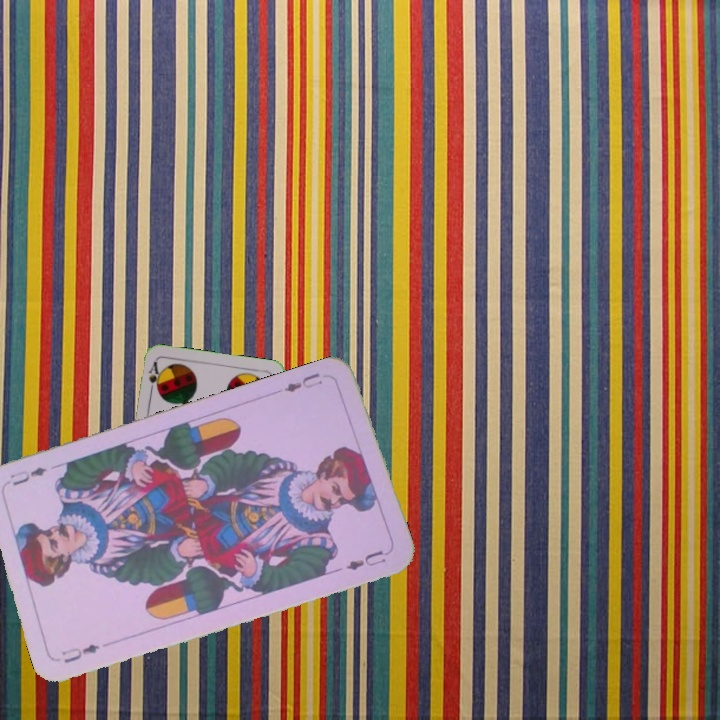EU: (280, 368, 325, 395), (58, 640, 102, 666)
SA: (144, 358, 162, 399)
